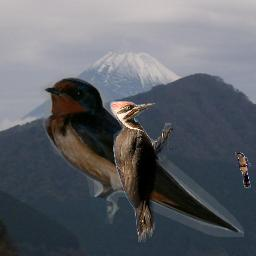Cuckoo: (233, 152, 251, 188)
Swallow: (39, 74, 244, 237)
Woodpecker: (110, 101, 173, 242)
